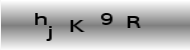9: (100, 12, 113, 26)
K: (69, 19, 85, 33)
R: (126, 15, 140, 29)
h: (34, 12, 48, 26)
j: (45, 25, 53, 42)
